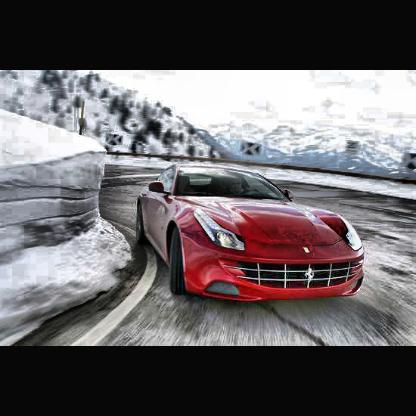Ferrari FF Coupe 2012: (134, 159, 368, 306)
